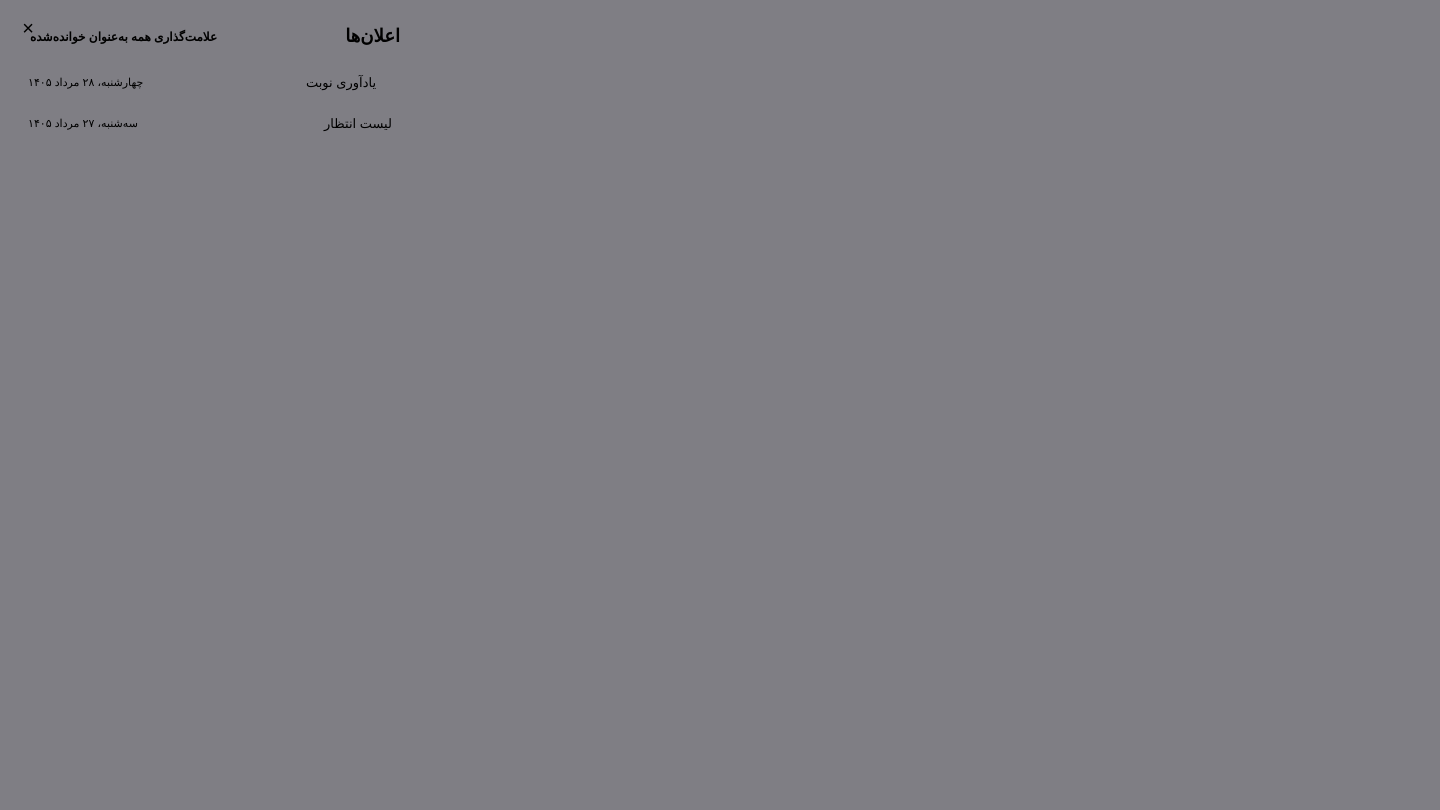
it: NotificationBell › "mark all as read" only appears when there is a real unread item, and disappears once none remain
Expected: the text "یادآوری نوبت" is shown, [306, 75, 376, 90]
Click the button "علامت‌گذاری همه به‌عنوان خوانده‌شده".
click(124, 37)  # box [20, 26, 227, 48]
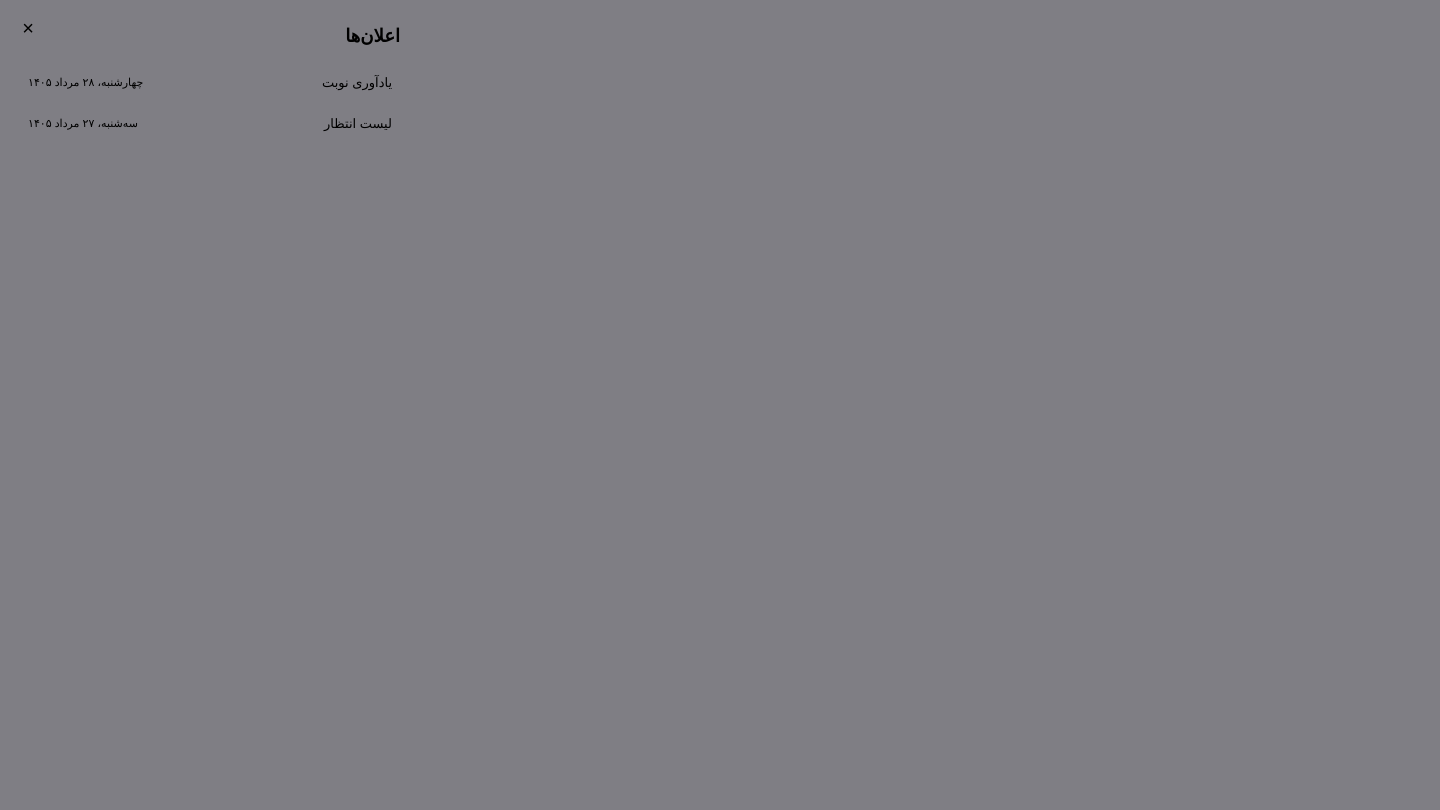
Result: the button "علامت‌گذاری همه به‌عنوان خوانده‌شده" is gone
